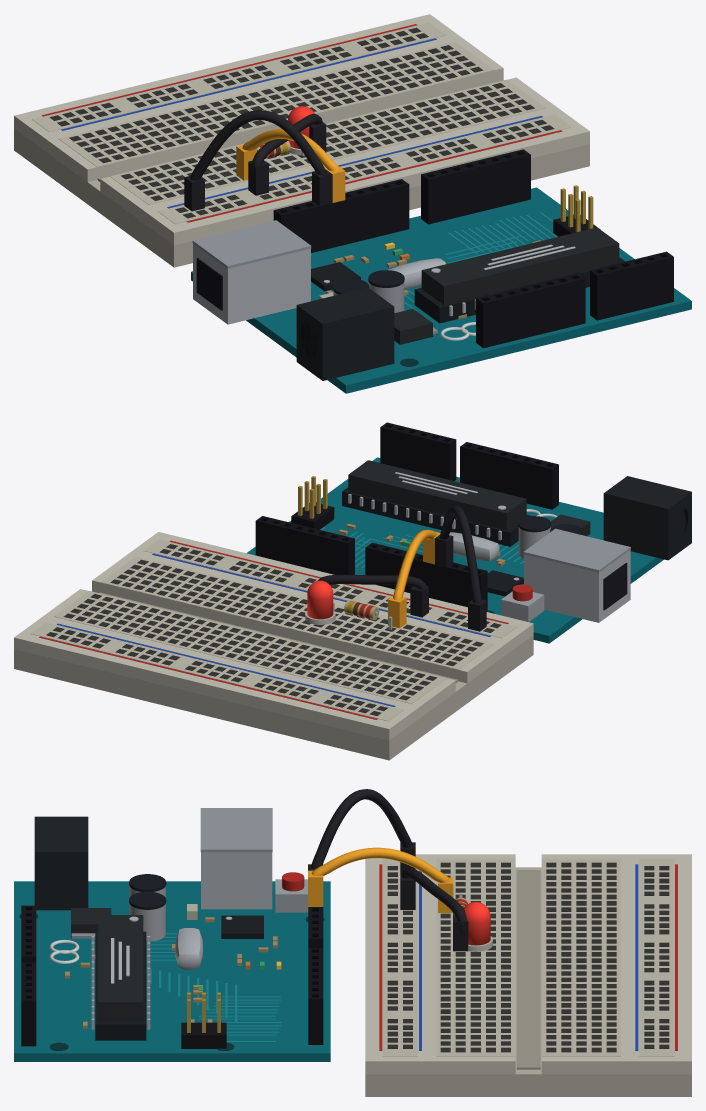
File: mechatronics_blink.glb
3 renders of one model, top to bottom at view 1: azimuth 30°, elevation 25°; view 2: azimuth 150°, elevation 25°; view 3: azimuth 270°, elevation 25°, orthographic. The views are drawn at different scales.
Parts seen in each view (by area): view 1: bb_body_g_geo, pcb_geo, bb_strips_top_g_geo, bb_rails_g_geo, bb_strips_bottom_g_geo, usb_geo, mcu_geo, barrel_geo, wire_geo (×3), dl_geo, bb_base_g_geo, dr_geo (+6 smaller); view 2: bb_body_g_geo, bb_strips_top_g_geo, bb_strips_bottom_g_geo, bb_base_g_geo, bb_rails_g_geo, mcu_geo, pcb_geo, usb_geo, barrel_geo, wire_geo (×3), power_geo, dr_geo (+10 smaller); view 3: pcb_geo, bb_body_g_geo, bb_strips_top_g_geo, bb_rails_g_geo, bb_strips_bottom_g_geo, bb_base_g_geo, usb_geo, mcu_geo, wire_geo (×3), barrel_geo, bb_channel_g_geo, regulator_geo (+9 smaller).
Part boxes in pixels (bbox=[...]): bb_body_g_geo: bbox=[14, 14, 589, 245]; pcb_geo: bbox=[191, 187, 691, 393]; bb_strips_top_g_geo: bbox=[58, 41, 493, 166]; bb_rails_g_geo: bbox=[32, 22, 571, 224]; bb_strips_bottom_g_geo: bbox=[110, 79, 545, 204]; usb_geo: bbox=[192, 220, 311, 324]; mcu_geo: bbox=[414, 227, 624, 323]; barrel_geo: bbox=[296, 287, 394, 380]; wire_geo (×3): bbox=[184, 110, 345, 211]; dl_geo: bbox=[273, 179, 409, 252]; bb_base_g_geo: bbox=[14, 128, 589, 267]; dr_geo: bbox=[421, 149, 530, 224]; bb_body_g_geo: bbox=[14, 532, 533, 740]; bb_strips_top_g_geo: bbox=[54, 591, 446, 703]; bb_strips_bottom_g_geo: bbox=[100, 556, 493, 669]; bb_base_g_geo: bbox=[14, 635, 533, 760]; bb_rails_g_geo: bbox=[30, 539, 517, 721]; mcu_geo: bbox=[342, 460, 532, 546]; pcb_geo: bbox=[246, 457, 663, 643]; usb_geo: bbox=[523, 528, 630, 622]; barrel_geo: bbox=[603, 476, 691, 560]; wire_geo (×3): bbox=[317, 505, 486, 631]; power_geo: bbox=[460, 442, 558, 509]; dr_geo: bbox=[255, 516, 354, 574]; pcb_geo: bbox=[14, 881, 330, 1061]; bb_body_g_geo: bbox=[365, 854, 691, 1074]; bb_strips_top_g_geo: bbox=[541, 858, 620, 1056]; bb_rails_g_geo: bbox=[382, 858, 674, 1056]; bb_strips_bottom_g_geo: bbox=[436, 858, 515, 1056]; bb_base_g_geo: bbox=[365, 867, 691, 1096]; usb_geo: bbox=[200, 808, 272, 909]; mcu_geo: bbox=[91, 915, 150, 1040]; wire_geo (×3): bbox=[308, 789, 468, 951]; barrel_geo: bbox=[34, 816, 88, 910]; bb_channel_g_geo: bbox=[516, 870, 540, 1069]; regulator_geo: bbox=[71, 874, 197, 941].
Size of the model in its own units: 0.8805 by 0.2631 by 1.14.
